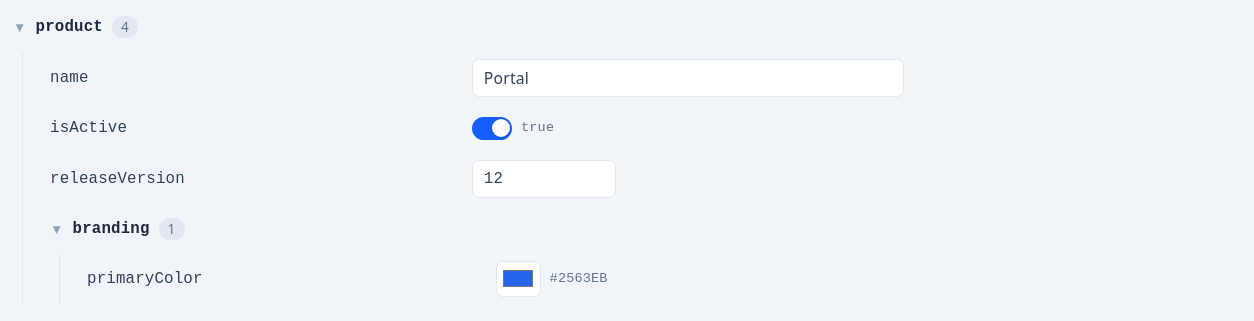
JsonViewer › collapses and expands an object through Redux state
This screenshot has width=1254, height=321.
Click the button "▼ branding 1": point(111, 229) [36, 204, 1234, 254]
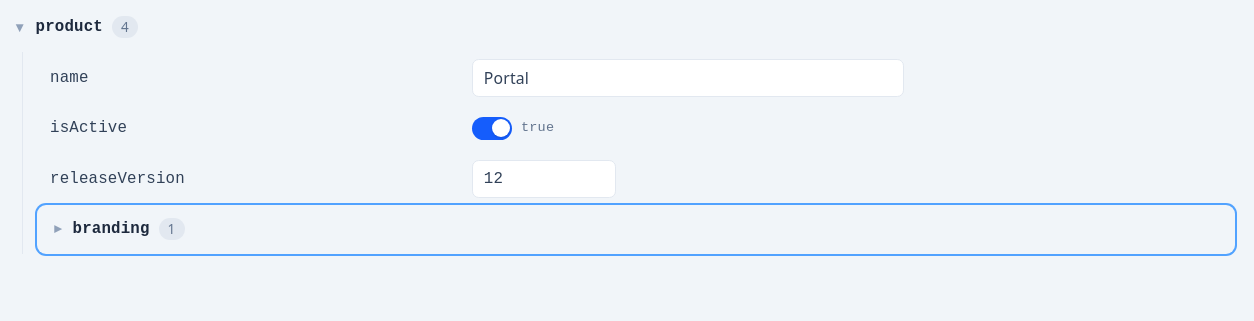
Check: the text labelled "Edit primaryColor" is gone
Click the button "▼ branding 1": point(111, 229) [36, 204, 1234, 254]
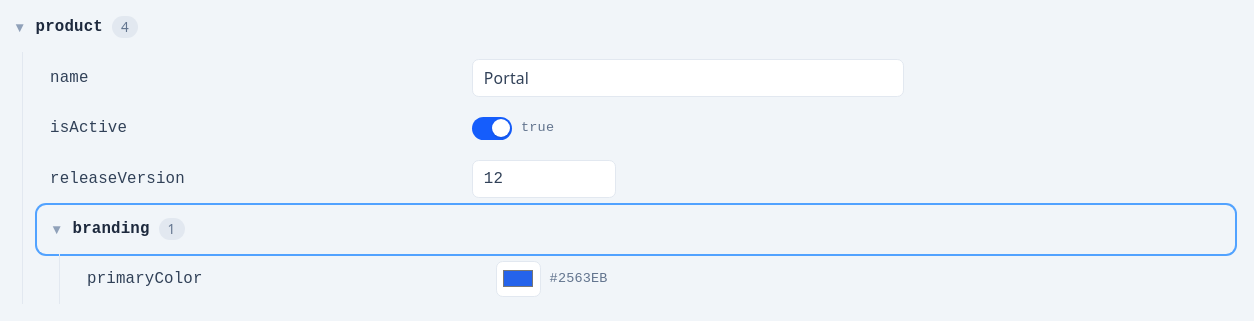
Check: the colour field named "Edit primaryColor" is shown, box [496, 261, 541, 297]
